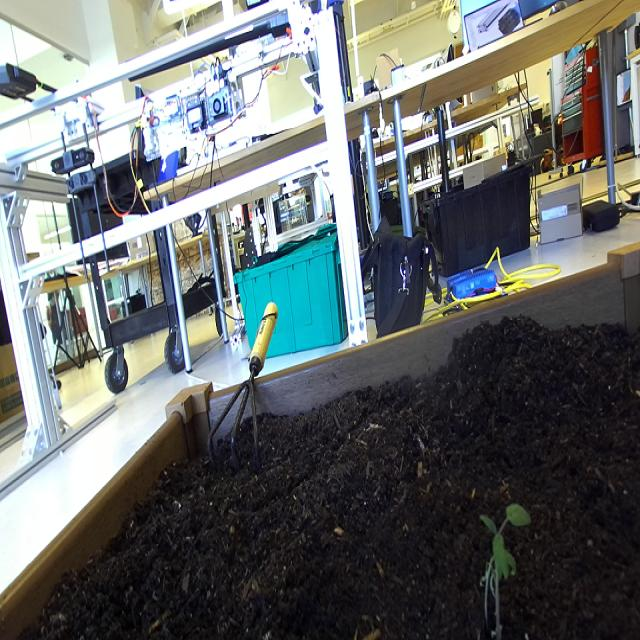Healthy: (470, 478, 537, 637)
